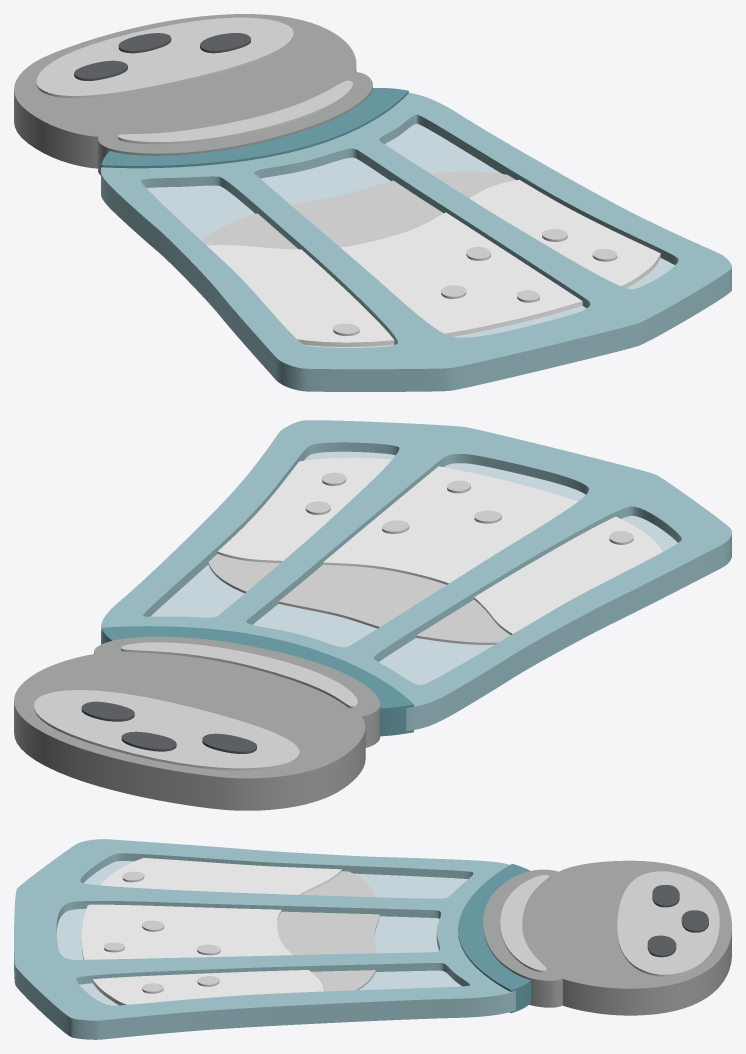
File: emoji_u1f9c2.glb
3 views of the same model, one above another, from view 1: azimuth 30°, elevation 25°; view 2: azimuth 150°, elevation 25°; view 3: azimuth 270°, elevation 25° (orthographic). The views are drawn at different scales.
Visible parts, largest first — view 1: emoji_u1f9c2; view 2: emoji_u1f9c2; view 3: emoji_u1f9c2.
Boxes of the visible parts, x1=… form: emoji_u1f9c2: x1=14, y1=14, x2=731, y2=391; emoji_u1f9c2: x1=14, y1=420, x2=731, y2=810; emoji_u1f9c2: x1=14, y1=839, x2=731, y2=1039.
Size of the model in its own units: 0.0203 by 0.0018 by 0.0339.
